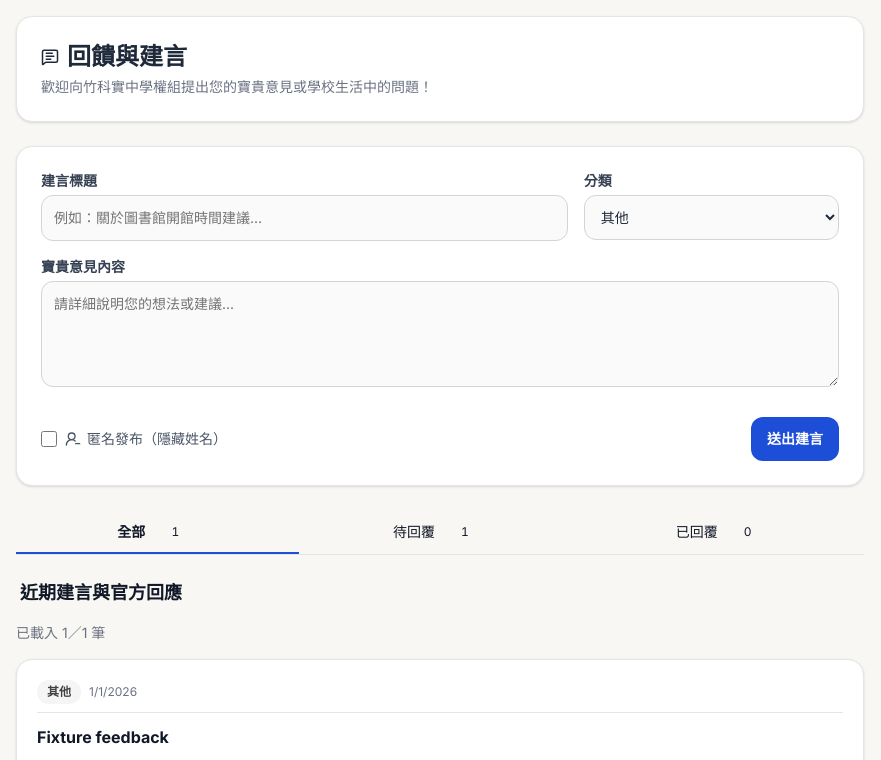
verified student posts named feedback; payload carries boolean flag, author server-derived
In the text box with placeholder "請詳細說明您的想法或建議...": {"x": 440, "y": 334} [41,281,839,387], type "Named student body text"
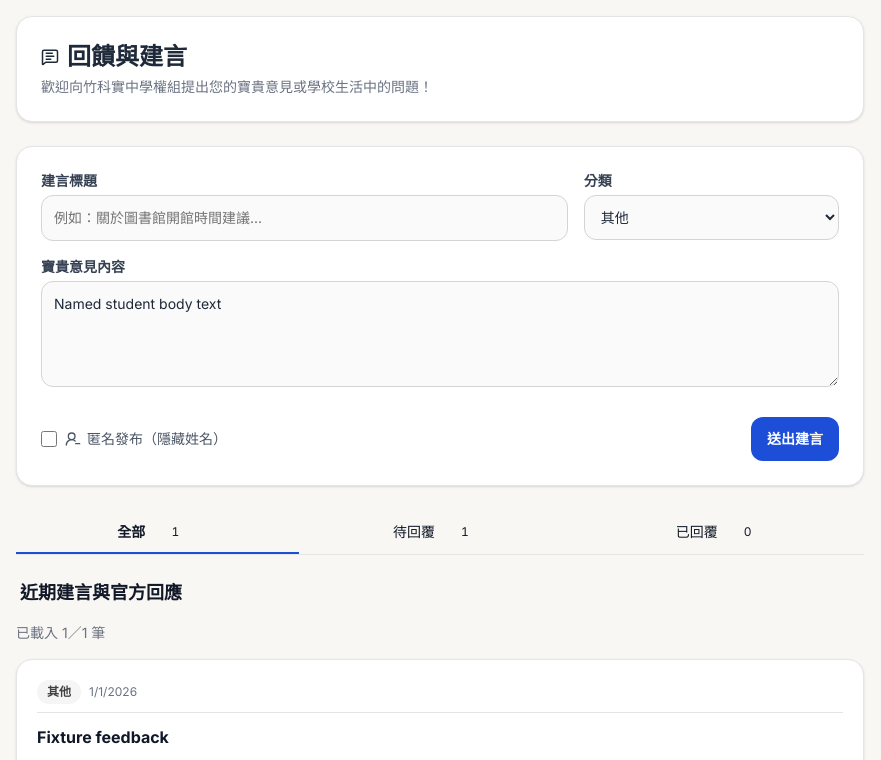
Click the button "送出建言": {"x": 795, "y": 439} [751,417,839,461]
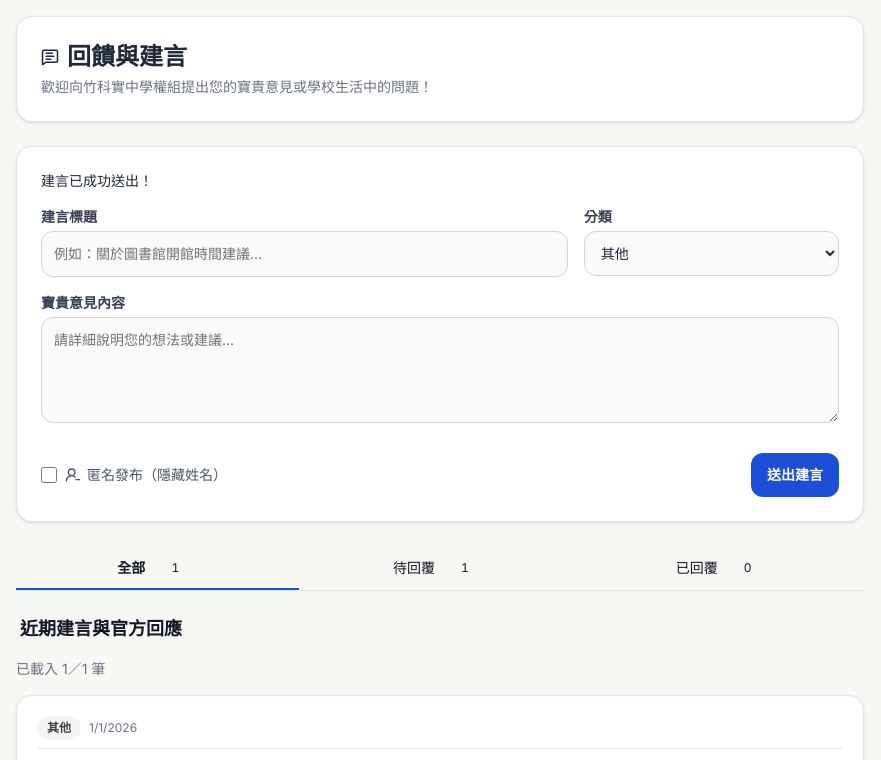
Expected: the message "建言已成功送出！" is shown, [41,172,153,189]
